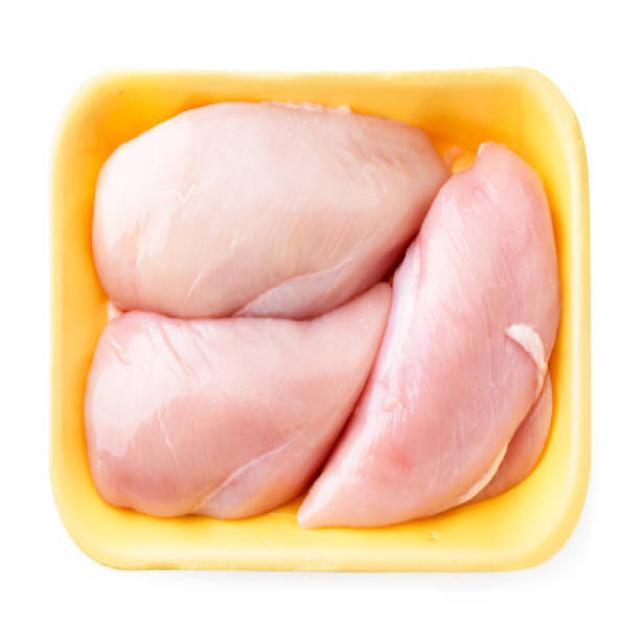Chicken Breast: (76, 81, 400, 292), (73, 300, 361, 500), (402, 171, 544, 517)
